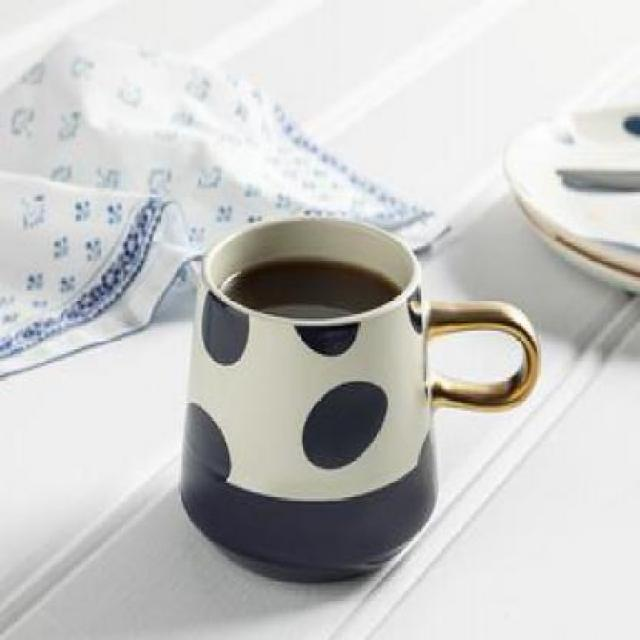taza: (177, 214, 538, 583)
